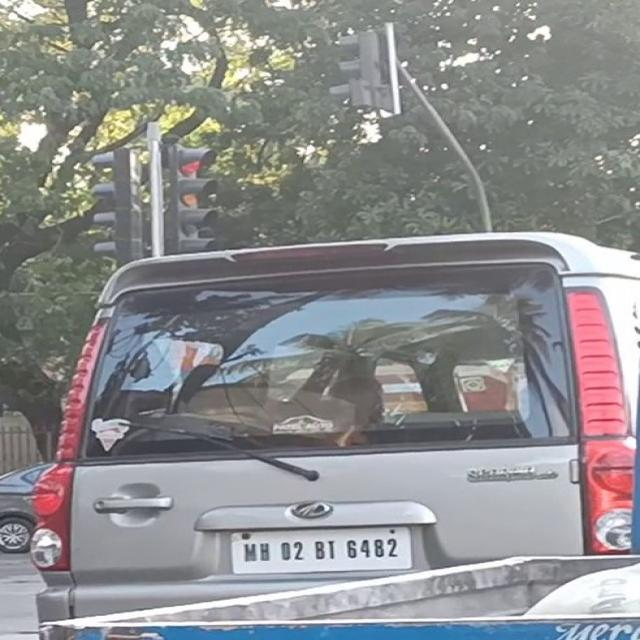Plate: (230, 526, 412, 574)
